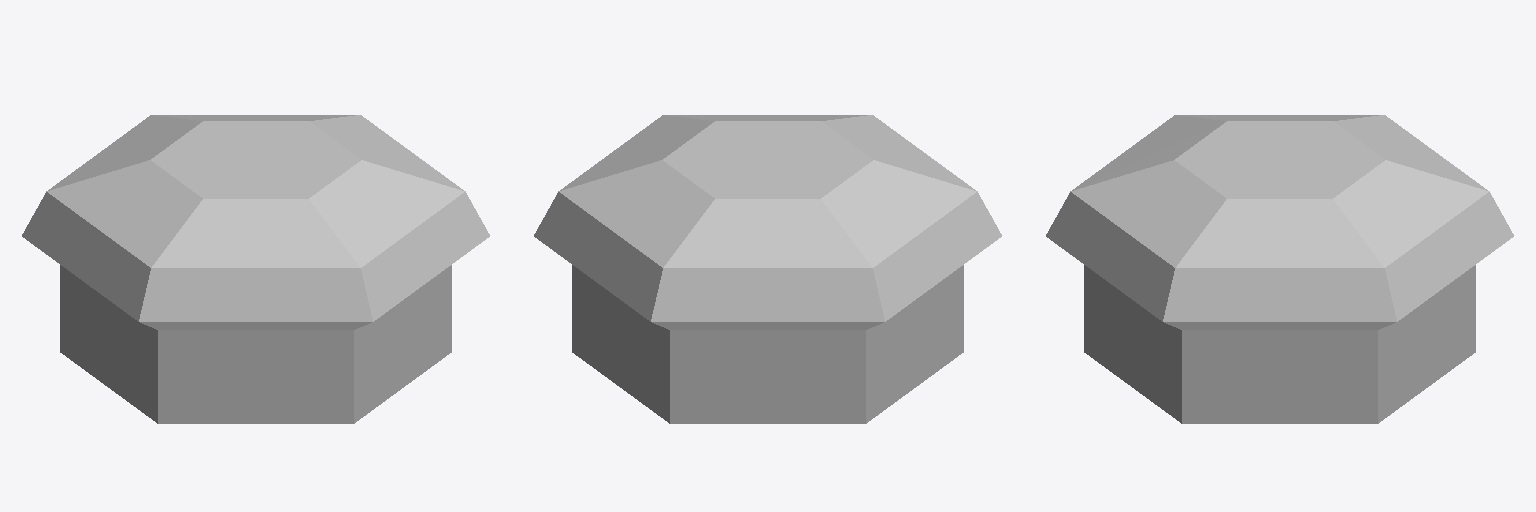
The model's file is misc017.obj.
3 renders of one model, left to right at view 1: azimuth 30°, elevation 25°; view 2: azimuth 150°, elevation 25°; view 3: azimuth 270°, elevation 25°, orthographic.
Visible parts, largest first — view 1: misc017; view 2: misc017; view 3: misc017.
Part boxes in pixels (x1,y1,x2,y2): misc017: (22, 115, 489, 423); misc017: (534, 115, 1001, 423); misc017: (1046, 115, 1513, 423).
Size of the model in its own units: 0.0061 by 0.0032 by 0.0071.